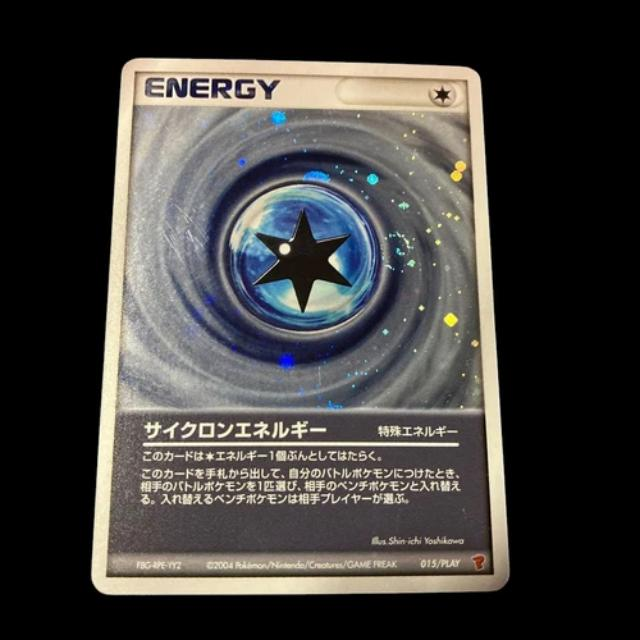Card: (85, 54, 518, 603)
Name: (131, 416, 335, 446)
